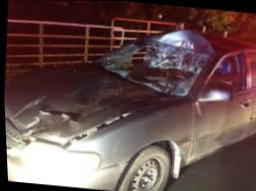Windshield: (93, 33, 206, 99)
